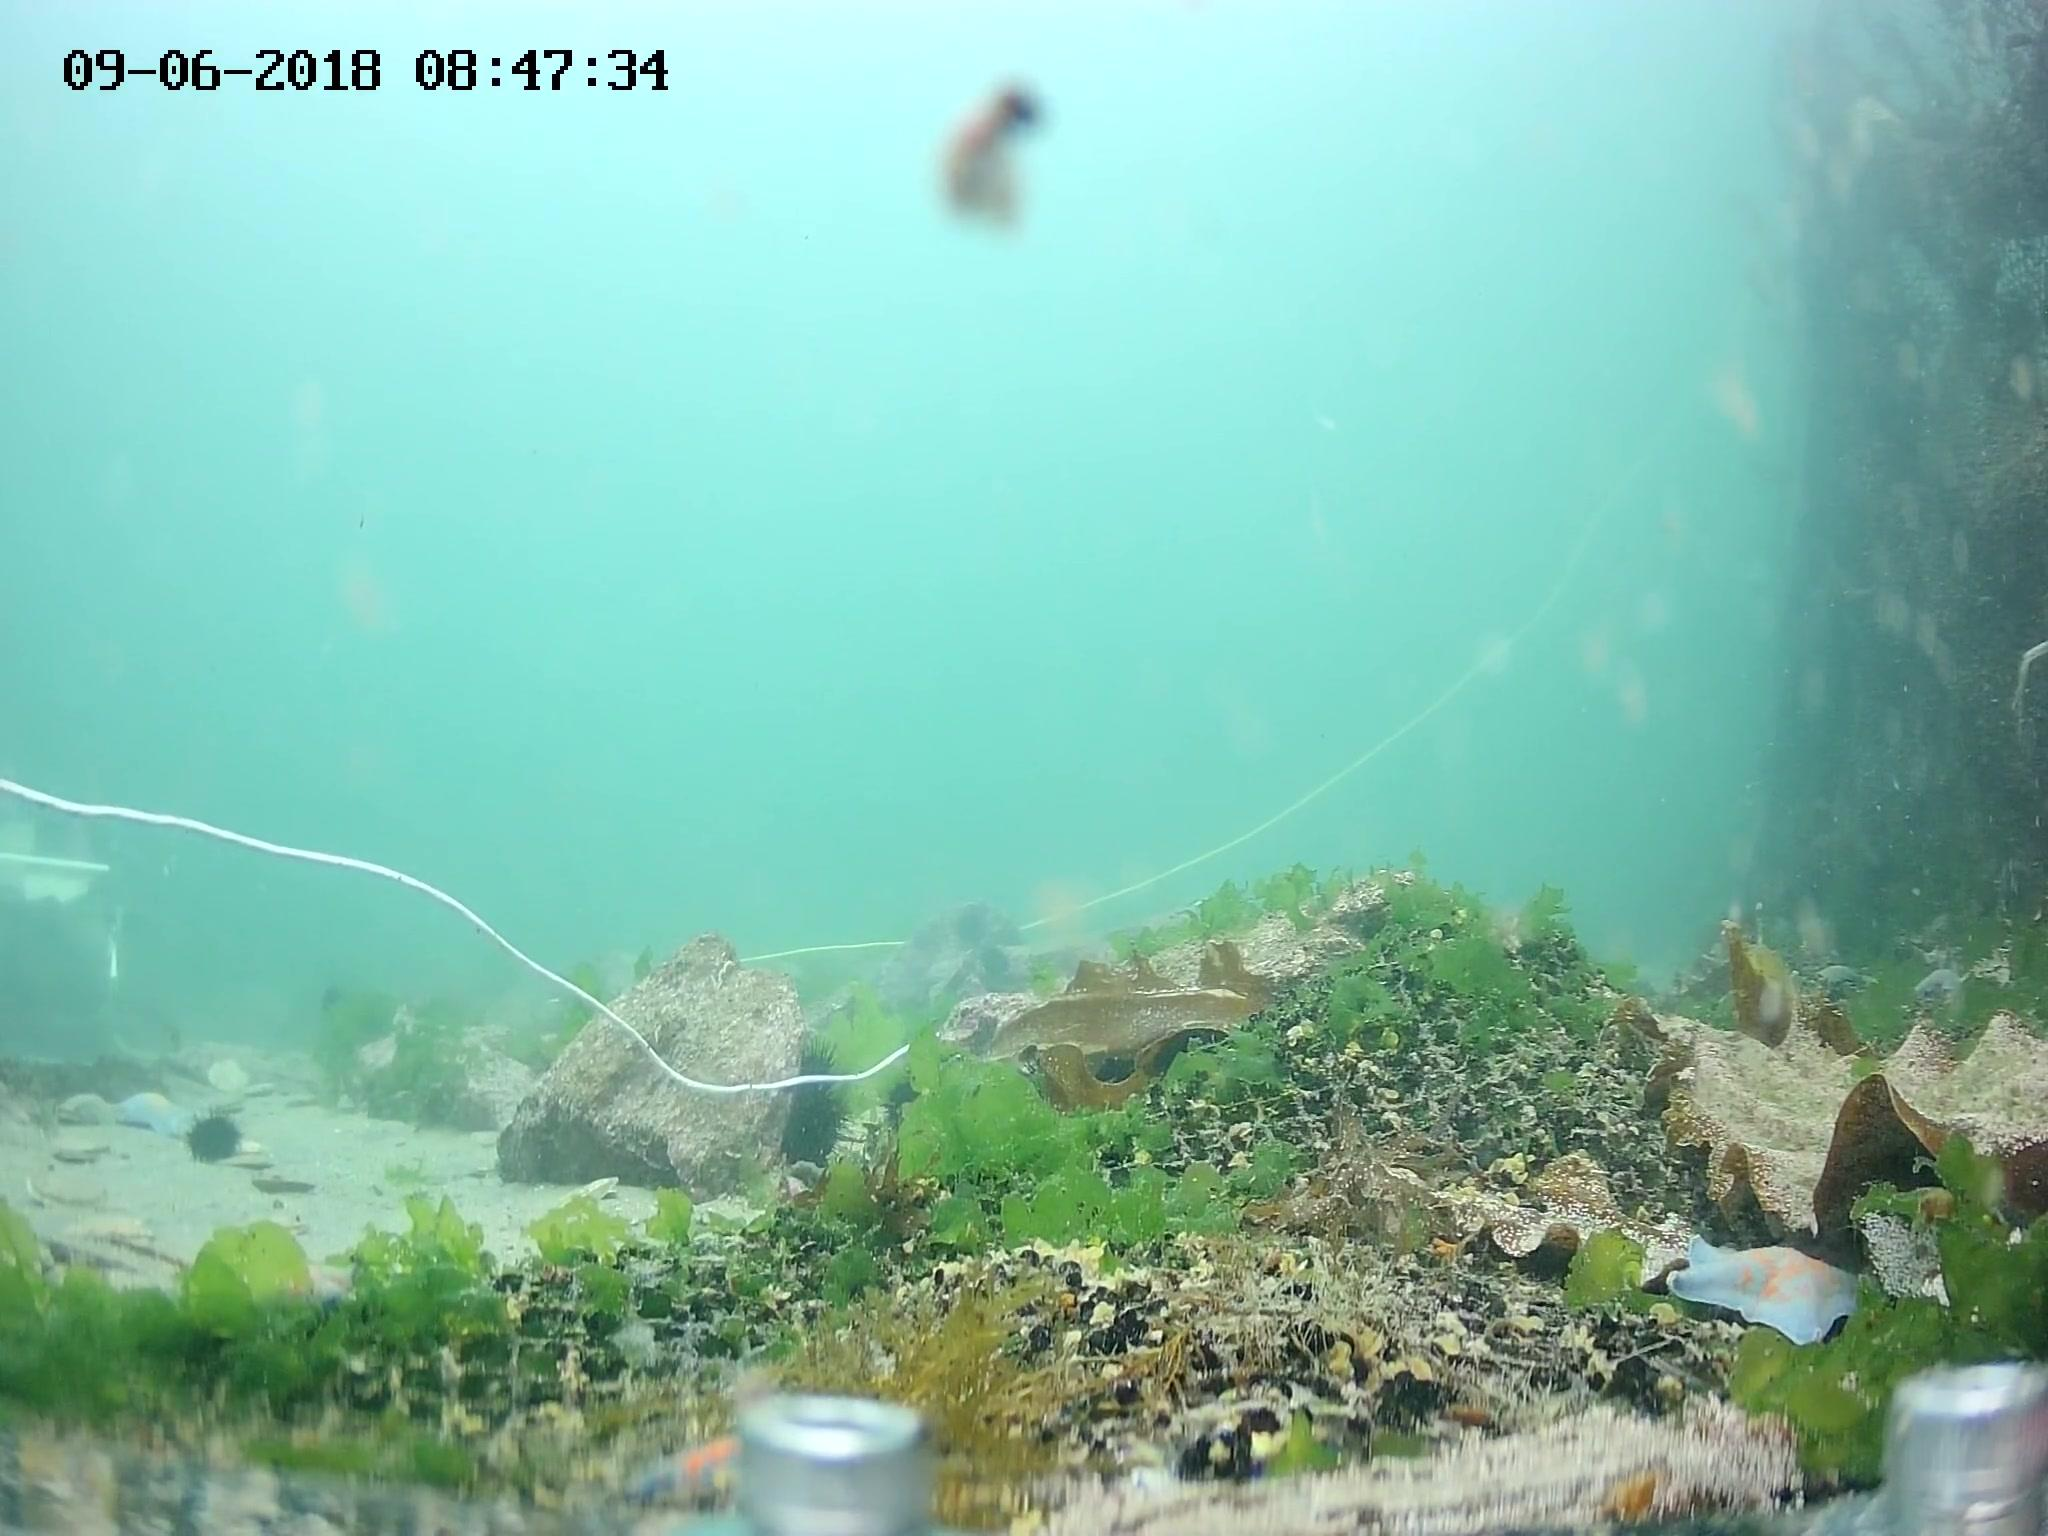echinus: (764, 1049, 840, 1171), (194, 1115, 244, 1163)
scallop: (40, 1171, 124, 1217), (258, 1163, 331, 1210), (556, 1173, 621, 1212), (40, 1133, 103, 1165), (232, 1141, 273, 1175), (208, 1055, 245, 1091)
starfish: (1671, 1226, 1879, 1371), (619, 1425, 748, 1513), (269, 1247, 360, 1310), (66, 1217, 164, 1257), (118, 1086, 187, 1133), (56, 1091, 119, 1129)
